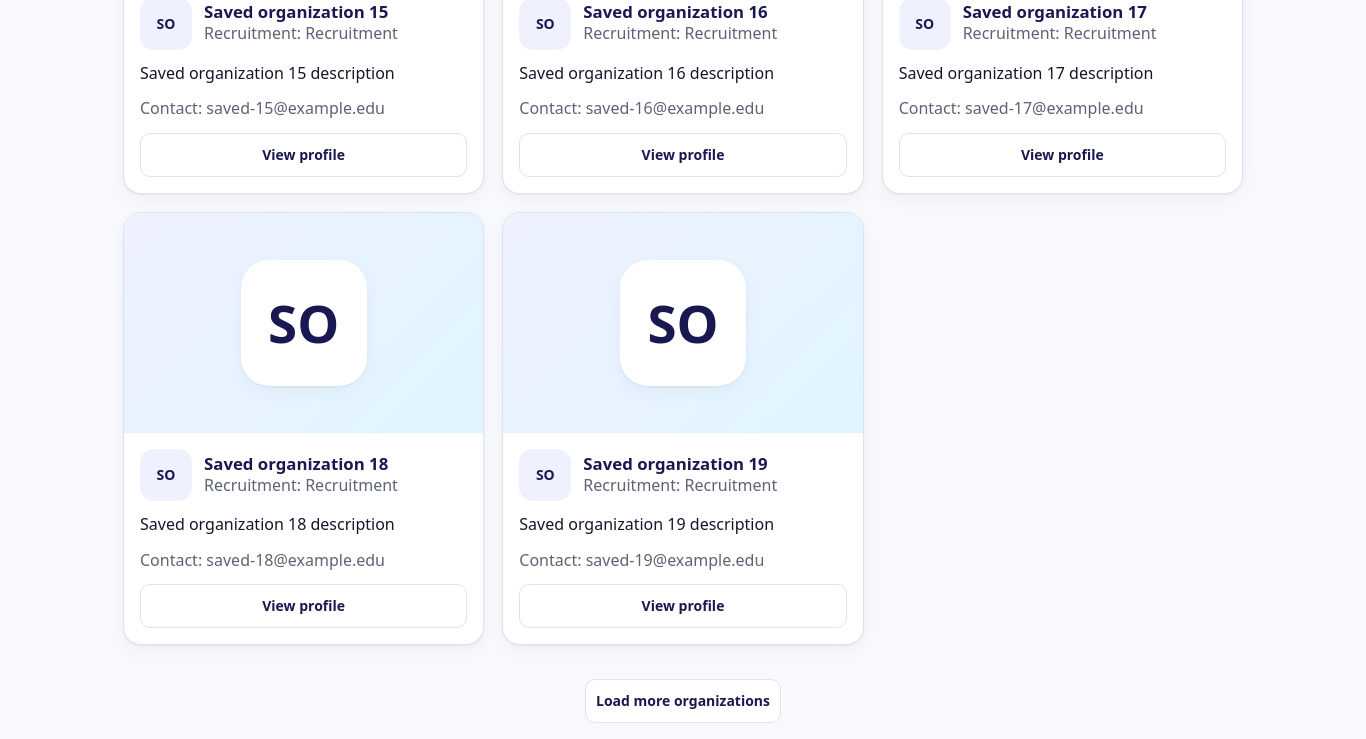
Test case: SOAR workflow pages › loads organization directory pages beyond the first set with the opaque cursor
The width and height of the screenshot is (1366, 739).
(page scrolled)
Expected: the link "Saved organization 19" is shown, [583,452,768,475]
Click the button "Load more organizations": [683, 701] box [585,679,781,723]
(page scrolled)
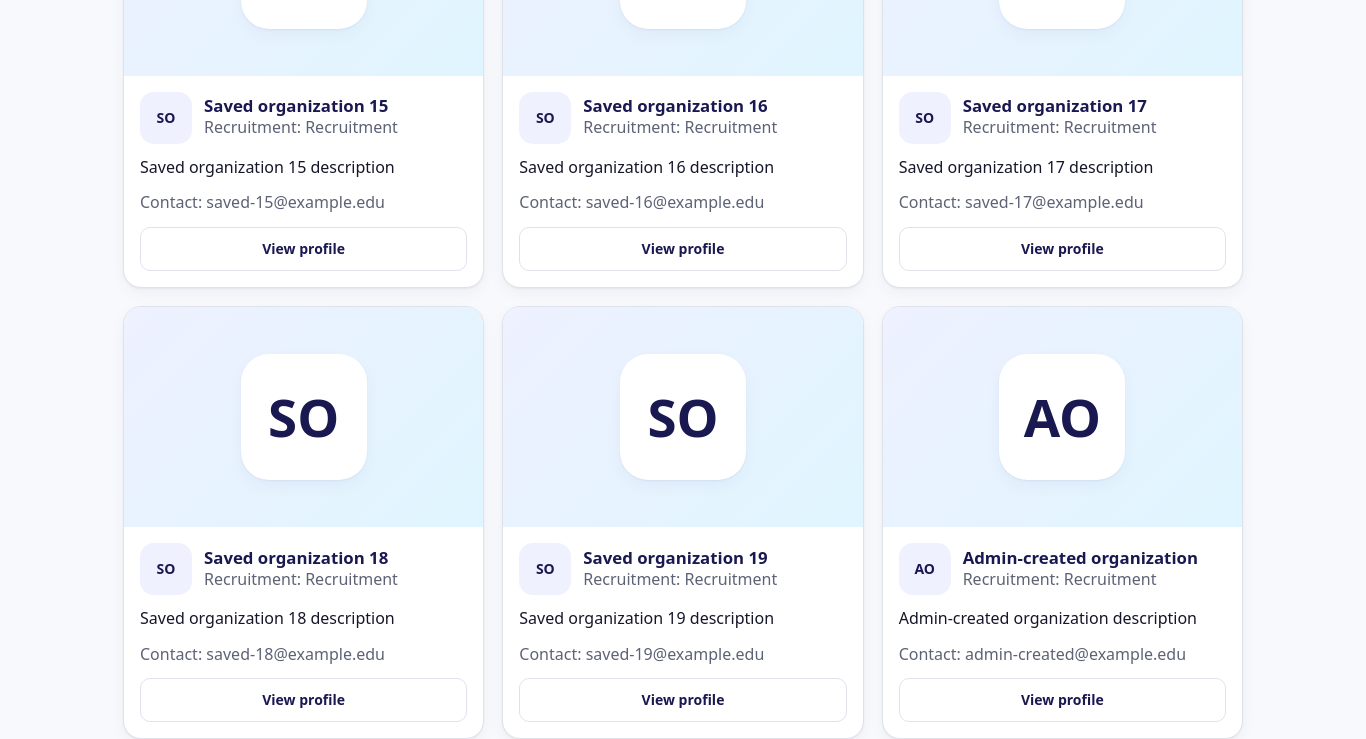
Expected: the link "Admin-created organization" is shown, [963,546,1198,569]
